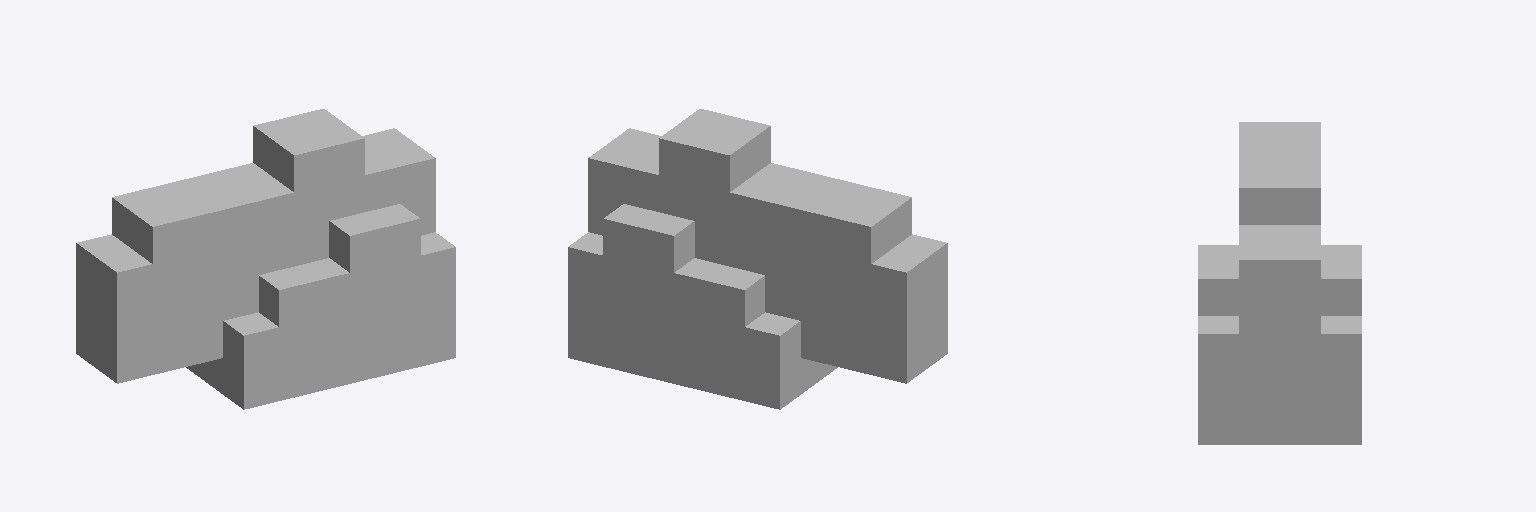
File: Green Laser Right.obj
3 views of the same model, side by side, from view 1: azimuth 30°, elevation 25°; view 2: azimuth 150°, elevation 25°; view 3: azimuth 270°, elevation 25° (orthographic).
Size of the model in its own units: 9 by 6 by 4.